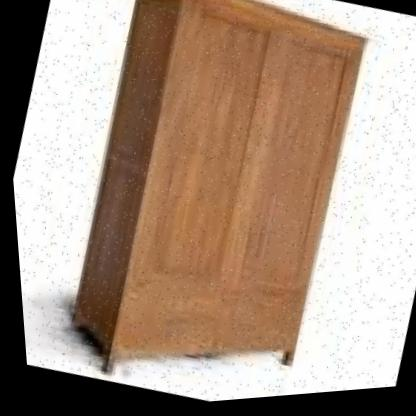Closet: (30, 0, 395, 414)
